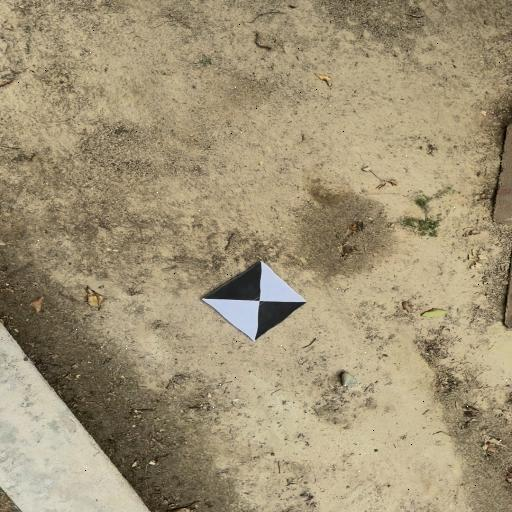target: (204, 261, 307, 341)
